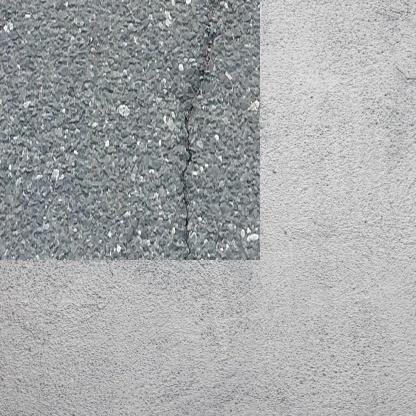Cracks: (166, 35, 197, 240)
